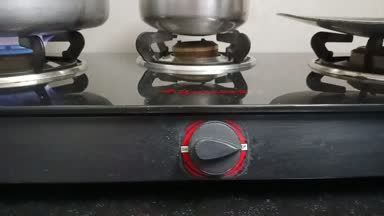flame_gas_off: (144, 15, 267, 183)
flame_gas_on: (1, 14, 88, 114)
